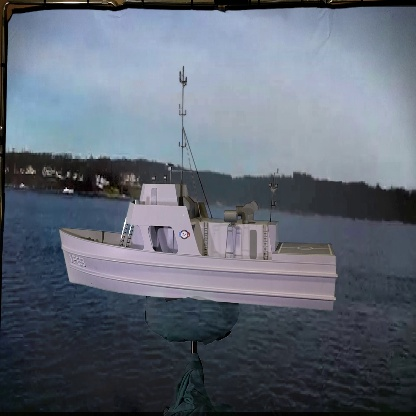YP689: (58, 66, 339, 313)
